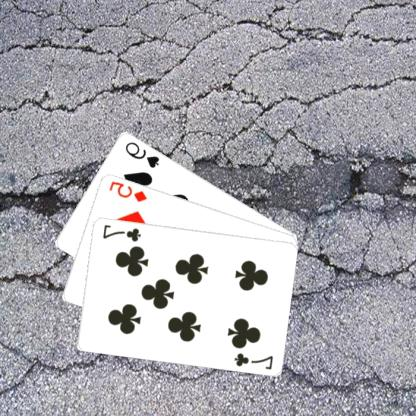5D: (108, 178, 150, 203)
7C: (102, 221, 144, 243), (233, 350, 276, 371)
9S: (124, 139, 162, 170)
